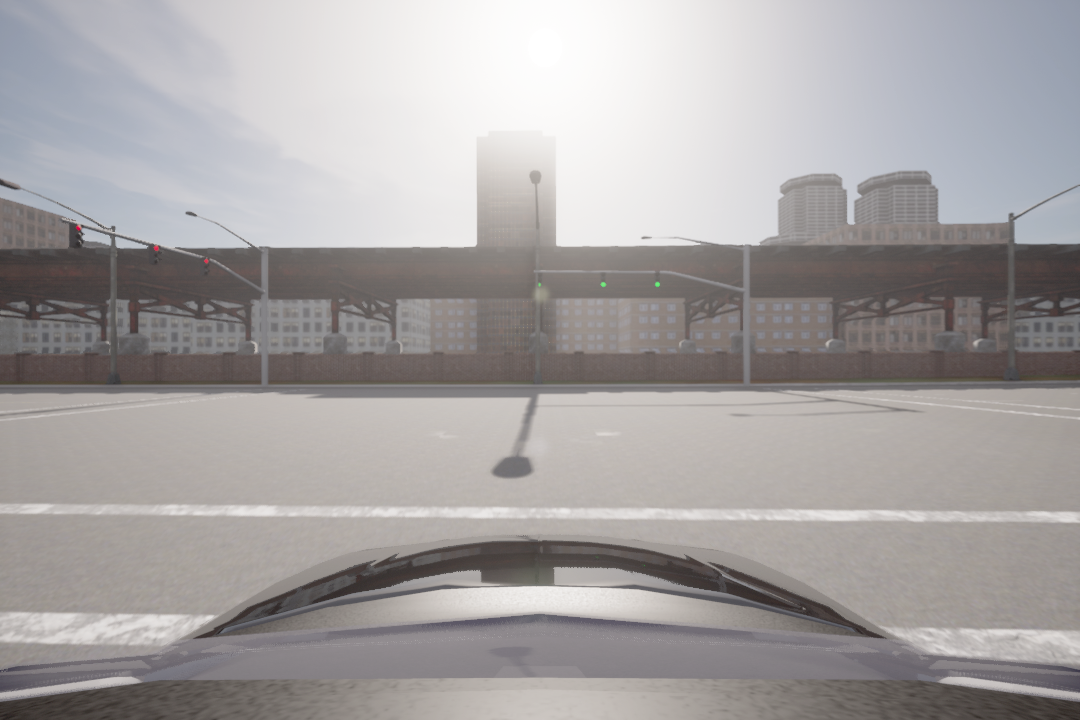TrafficLight: (67, 220, 84, 251), (146, 241, 163, 267), (198, 254, 212, 279), (652, 269, 663, 290), (598, 269, 606, 291)
